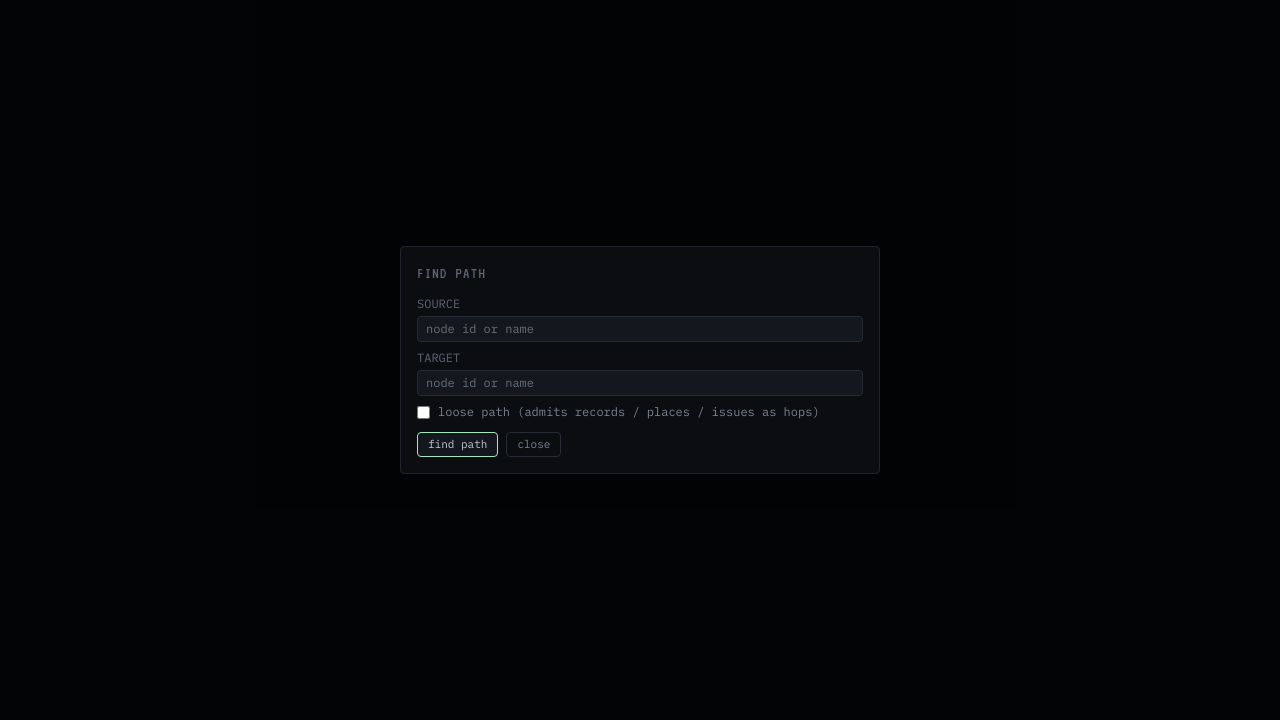
Test: PathDialog › shows path-found result with node chain and highlight button
Type "person-kate-colin" into the field labelled "source".
click(640, 329); type("person-kate-colin")  # box left=417, top=316, right=863, bottom=342
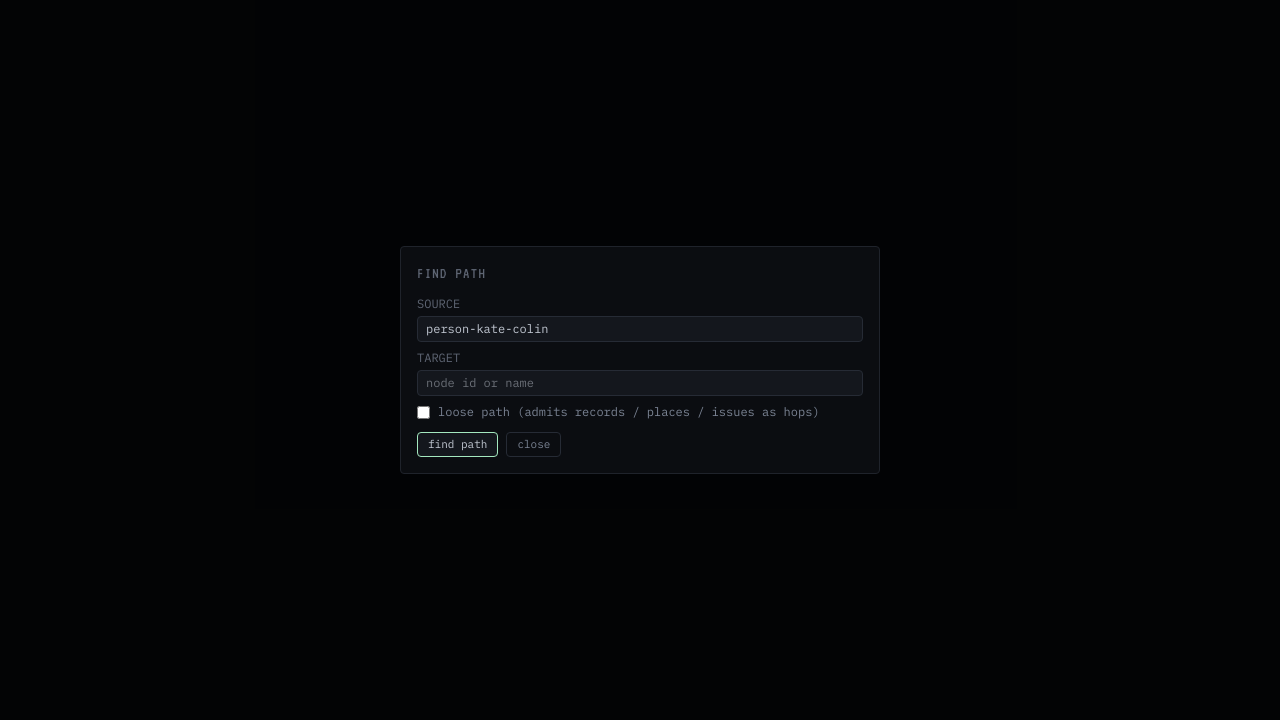
Type "project-merrydale" into the field labelled "target".
click(640, 383); type("project-merrydale")  # box left=417, top=370, right=863, bottom=396
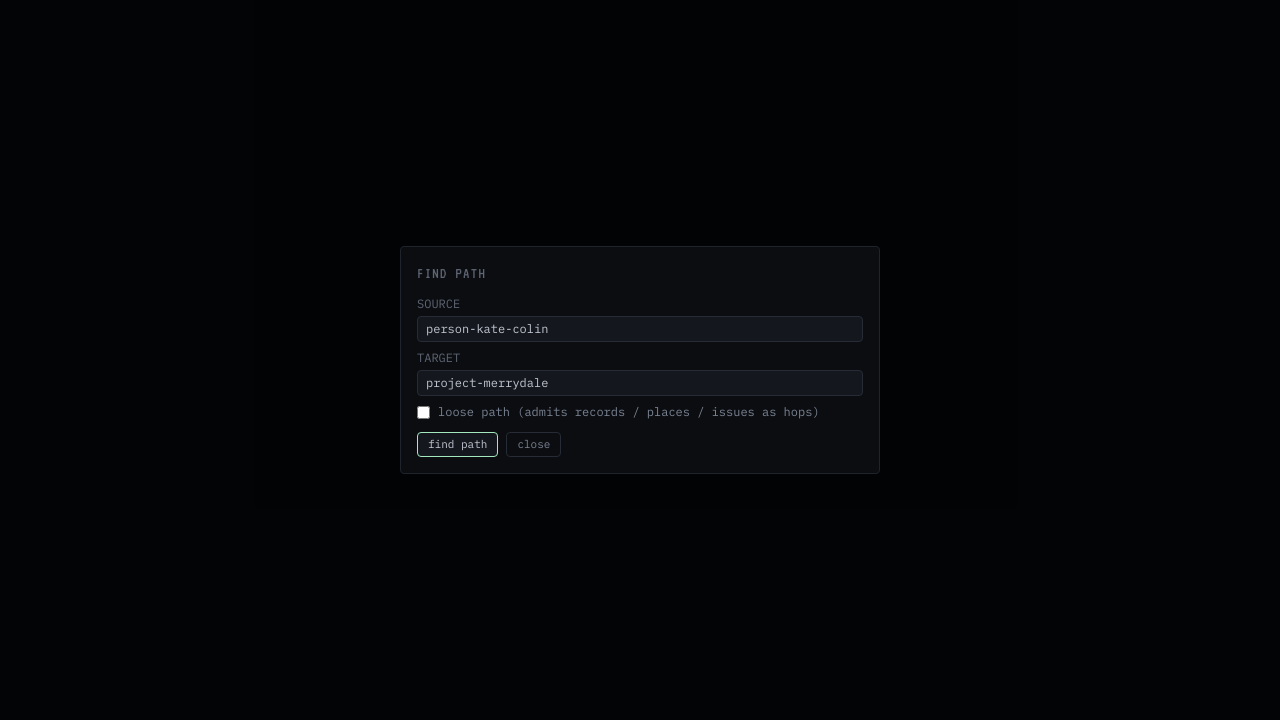
Click the button "find path".
click(458, 445)  # box left=417, top=432, right=498, bottom=457
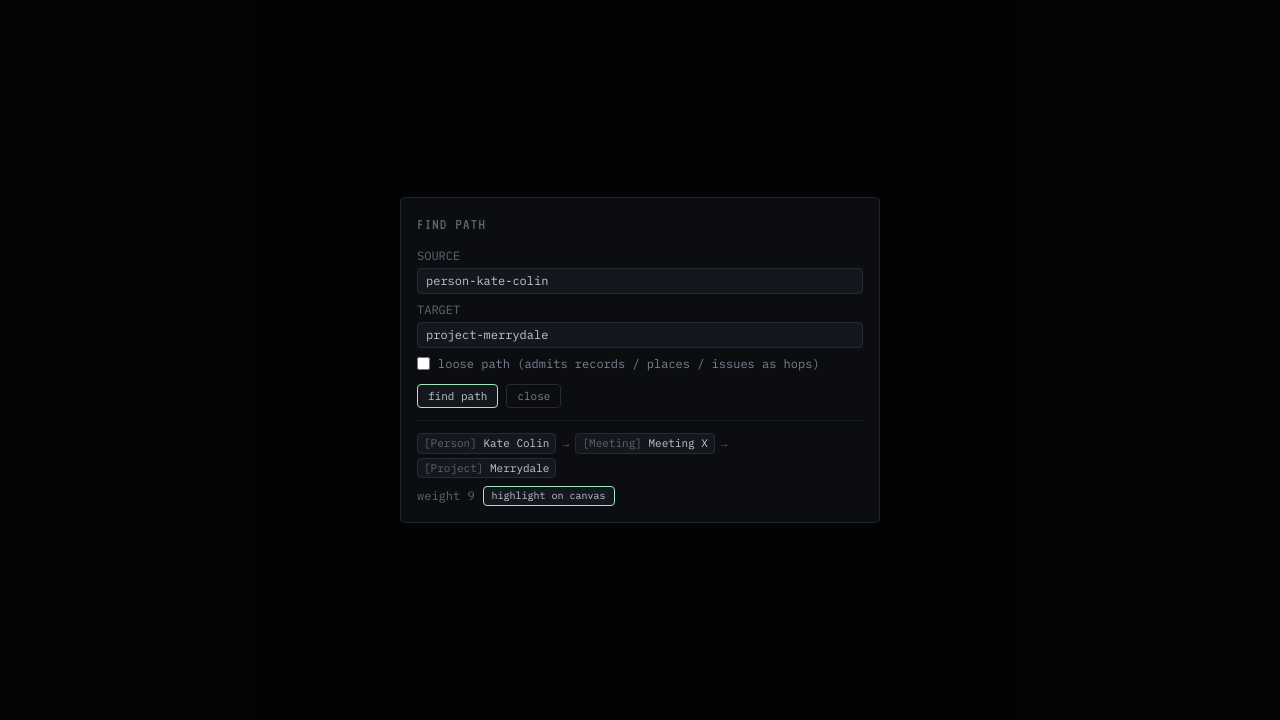
Check: the element with test id "path-result" is shown, box left=417, top=420, right=863, bottom=506
Check: the element with test id "path-result" shows "Kate Colin", box left=483, top=436, right=549, bottom=450
Check: the element with test id "path-result" shows "Meeting X", box left=648, top=436, right=708, bottom=450
